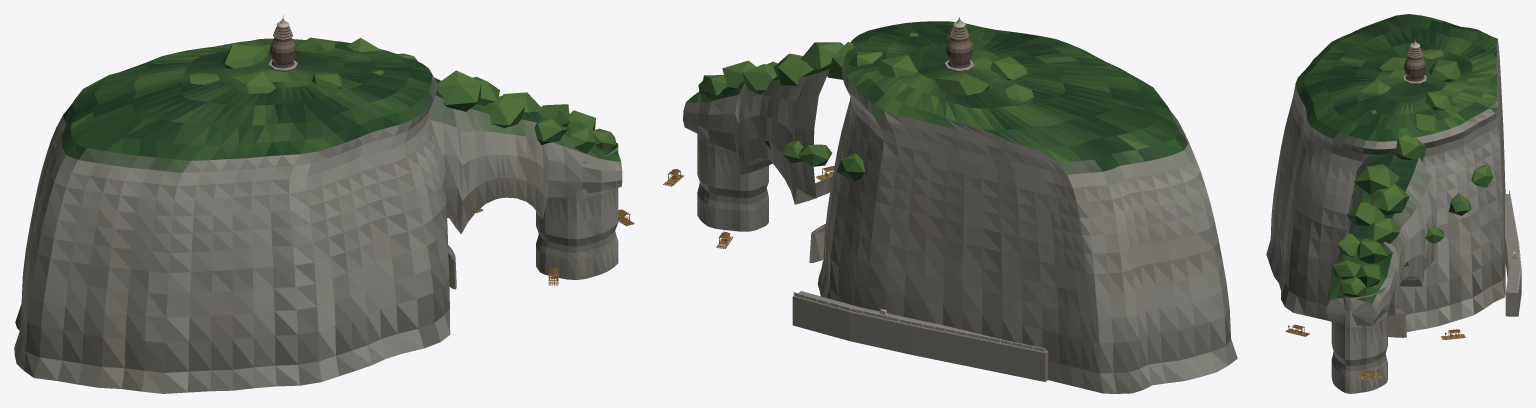
File: elephant_hill.glb
3 renders of one model, left to right at view 1: azimuth 30°, elevation 25°; view 2: azimuth 150°, elevation 25°; view 3: azimuth 270°, elevation 25°, orthographic. The views are drawn at different scales.
Parts seen in each view (by area): view 1: ElephantHillCliff, ElephantHillDecor; view 2: ElephantHillCliff, ElephantHillDecor; view 3: ElephantHillCliff, ElephantHillDecor.
Boxes of the visible parts, bbox=[...] form: ElephantHillCliff: bbox=[14, 15, 622, 393]; ElephantHillDecor: bbox=[187, 37, 634, 285]; ElephantHillCliff: bbox=[683, 17, 1237, 393]; ElephantHillDecor: bbox=[663, 32, 1033, 248]; ElephantHillCliff: bbox=[1266, 14, 1521, 393]; ElephantHillDecor: bbox=[1285, 49, 1493, 380].
Bounding box in the file's own units: 146 × 69.6 × 67.6.
